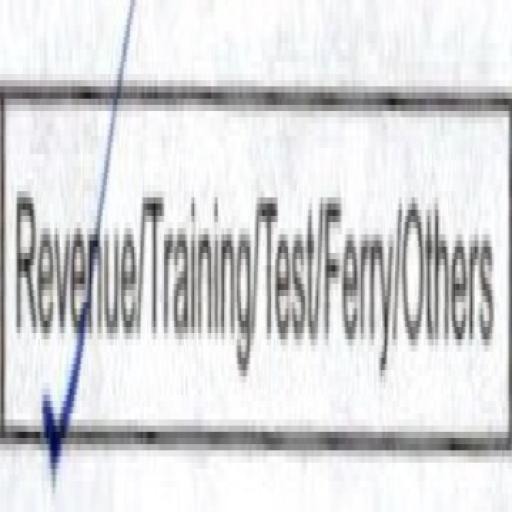check: (7, 20, 144, 510)
